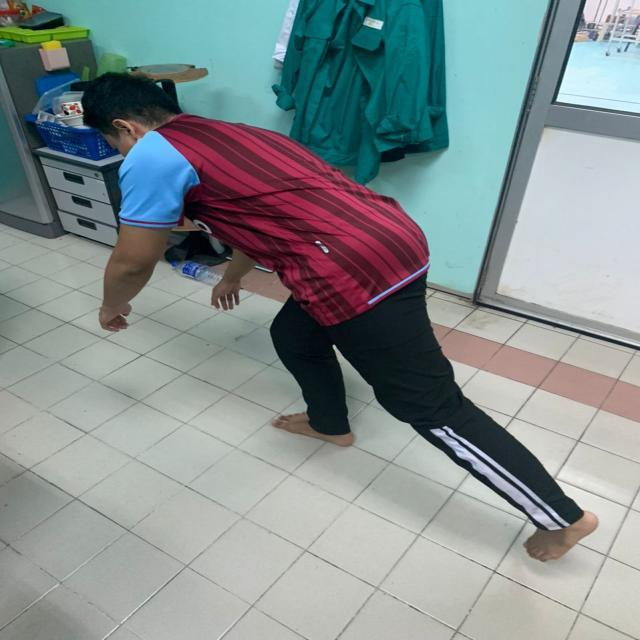fall: (78, 66, 596, 554)
